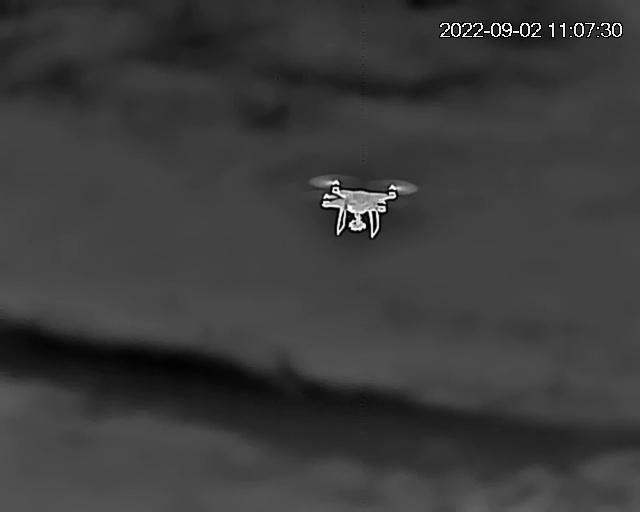DJI-Phantom: (316, 170, 411, 240)
